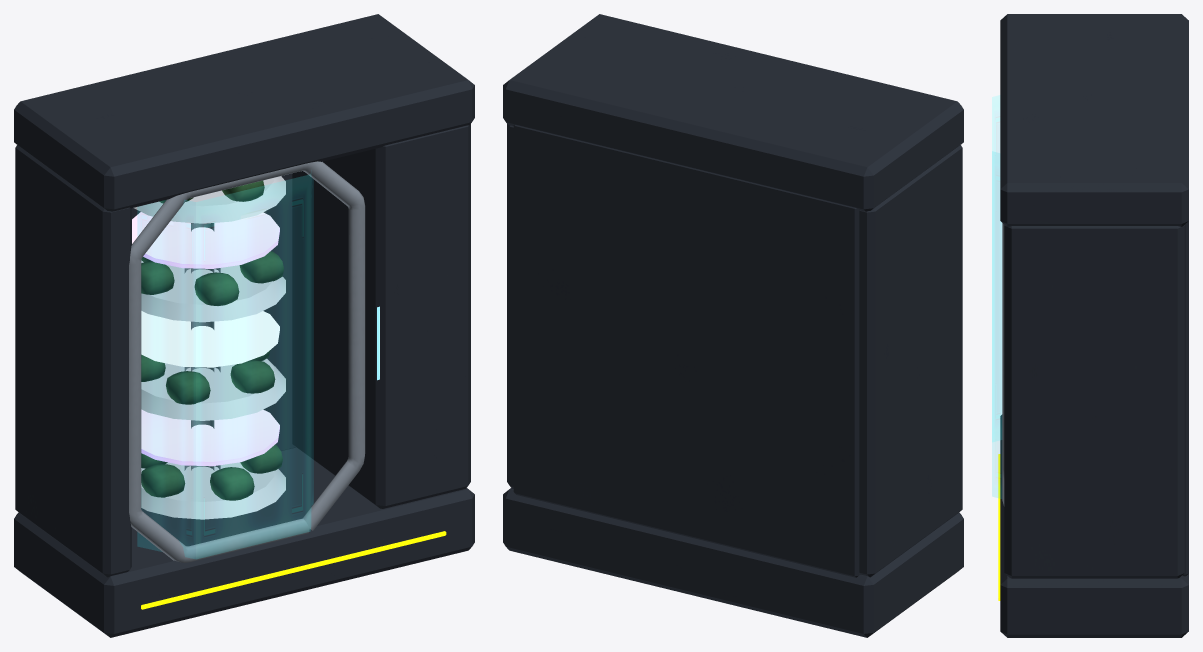
Rendered from hydro_column_r1_04.glb.
3 renders of one model, left to right at view 1: azimuth 30°, elevation 25°; view 2: azimuth 150°, elevation 25°; view 3: azimuth 270°, elevation 25°, orthographic. The views are drawn at different scales.
Parts seen in each view (by area): view 1: Hydro04_HexTerrariumCarbonHull, Hydro04_HexFacetedTranslucentDoors, Hydro04_MachinedHexGantryAndPipes, Hydro04_WhiteTerracedTroughs, Hydro04_UVGrowBars, Hydro04_TerracedBotanicalFoliage, Hydro04_IceGrowBars, Hydro04_AmberBaseLED; view 2: Hydro04_HexTerrariumCarbonHull; view 3: Hydro04_HexTerrariumCarbonHull, Hydro04_HexFacetedTranslucentDoors, Hydro04_MachinedHexGantryAndPipes, Hydro04_AmberBaseLED.
Part boxes in pixels (<box>): Hydro04_HexTerrariumCarbonHull: <box>14,14,474,637</box>; Hydro04_HexFacetedTranslucentDoors: <box>138,175,312,558</box>; Hydro04_MachinedHexGantryAndPipes: <box>129,161,365,562</box>; Hydro04_WhiteTerracedTroughs: <box>133,176,285,519</box>; Hydro04_UVGrowBars: <box>132,212,279,466</box>; Hydro04_TerracedBotanicalFoliage: <box>141,180,283,500</box>; Hydro04_IceGrowBars: <box>141,311,279,367</box>; Hydro04_AmberBaseLED: <box>141,531,446,609</box>; Hydro04_HexTerrariumCarbonHull: <box>503,14,963,637</box>; Hydro04_HexTerrariumCarbonHull: <box>1000,14,1188,637</box>; Hydro04_HexFacetedTranslucentDoors: <box>992,95,1001,498</box>; Hydro04_MachinedHexGantryAndPipes: <box>1002,223,1004,506</box>; Hydro04_AmberBaseLED: <box>998,454,1000,600</box>.
Size of the model in its own units: 2.02 by 2.45 by 0.96.
11 materials, 11 textured.
